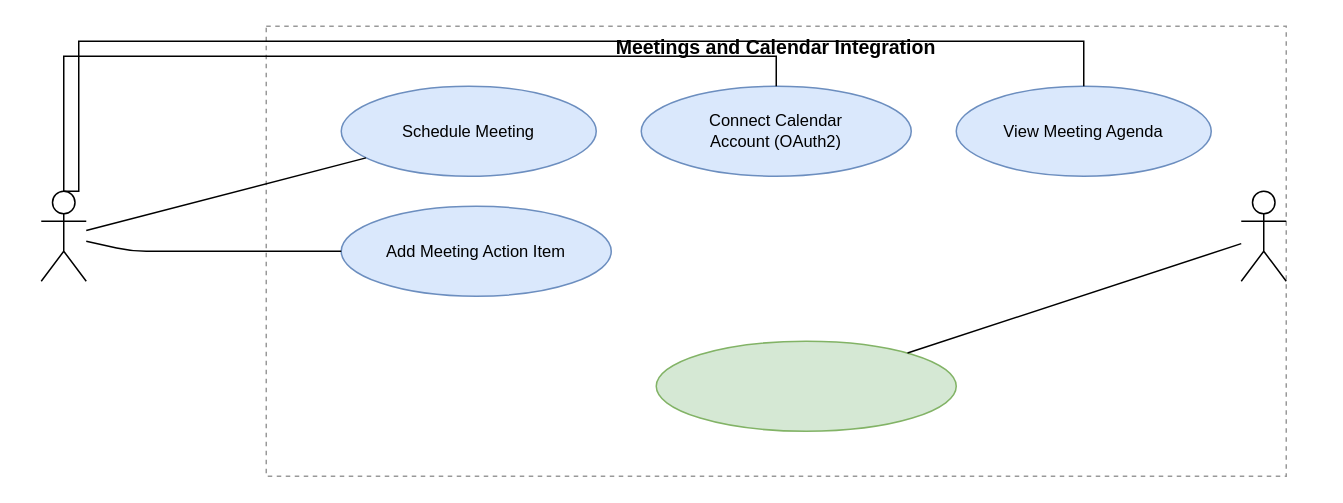
Image size: 1343x503. Some labels were removed from this diagram. Each missing label, with the centre of its shape:
Schedule Mid-Year / Final Evaluation Meeting: point (805, 385)
Team Leader: point (1263, 235)
User (any role): point (63, 235)
